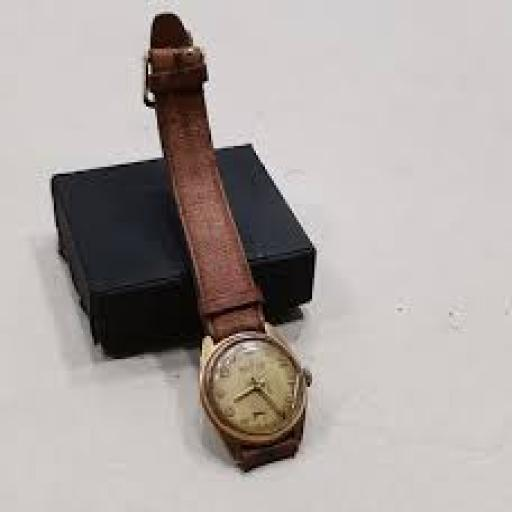KolSaati: (126, 7, 328, 482)
